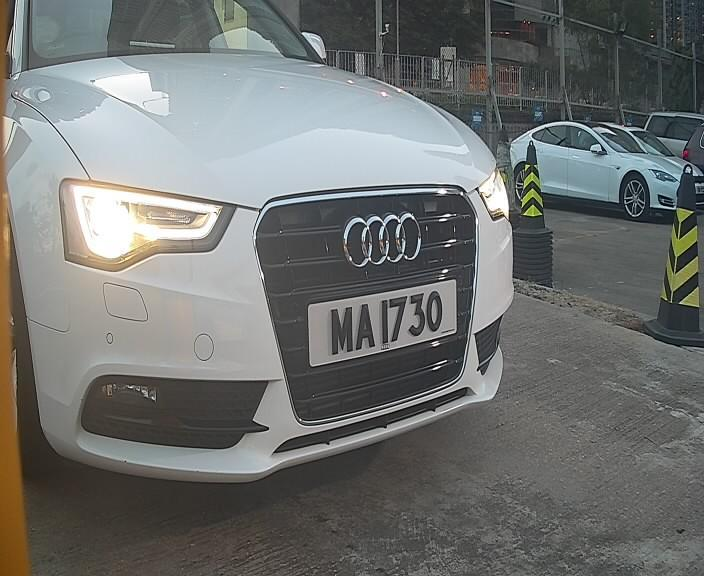License Plate: (299, 276, 453, 368)
